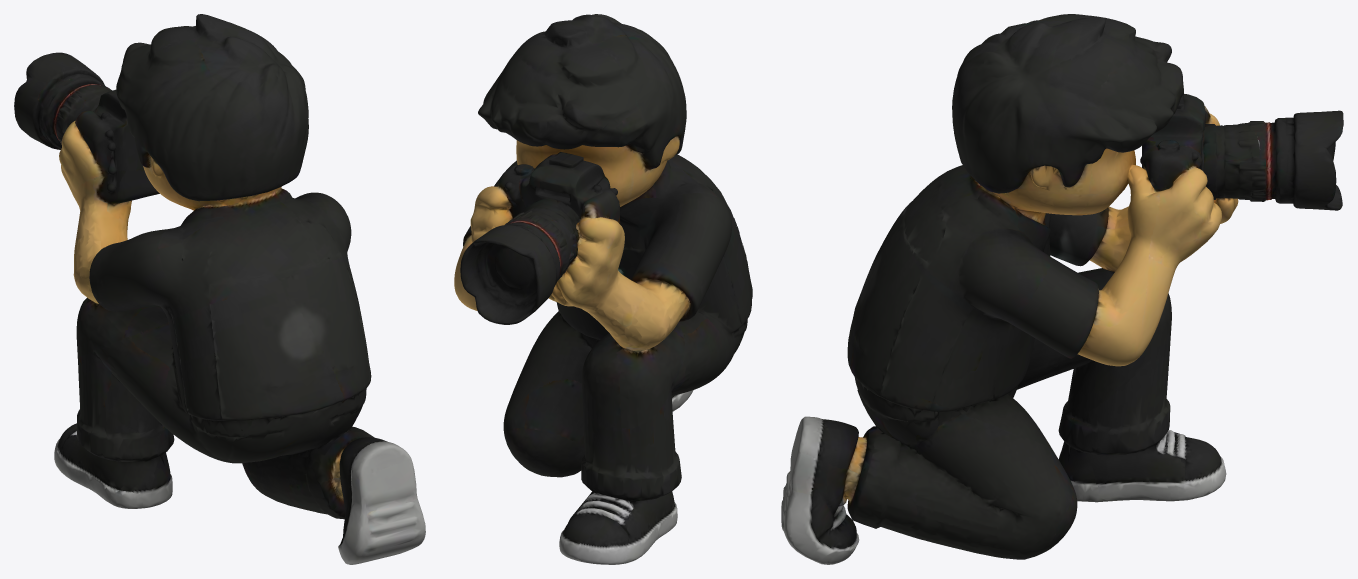
The model's file is photographer.glb.
3 views of the same model, side by side, from view 1: azimuth 30°, elevation 25°; view 2: azimuth 150°, elevation 25°; view 3: azimuth 270°, elevation 25° (orthographic). The views are drawn at different scales.
Visible parts, largest first — view 1: tripo_node_3eff12ec-2c9e-4e73-a113-261943a8cf3c; view 2: tripo_node_3eff12ec-2c9e-4e73-a113-261943a8cf3c; view 3: tripo_node_3eff12ec-2c9e-4e73-a113-261943a8cf3c.
Part boxes in pixels (x1,y1,x2,y2): tripo_node_3eff12ec-2c9e-4e73-a113-261943a8cf3c: [14, 14, 425, 564]; tripo_node_3eff12ec-2c9e-4e73-a113-261943a8cf3c: [454, 14, 752, 564]; tripo_node_3eff12ec-2c9e-4e73-a113-261943a8cf3c: [781, 14, 1343, 564].
Size of the model in its own units: 0.507 by 0.9983 by 0.9999.
1 material, 1 textured.
